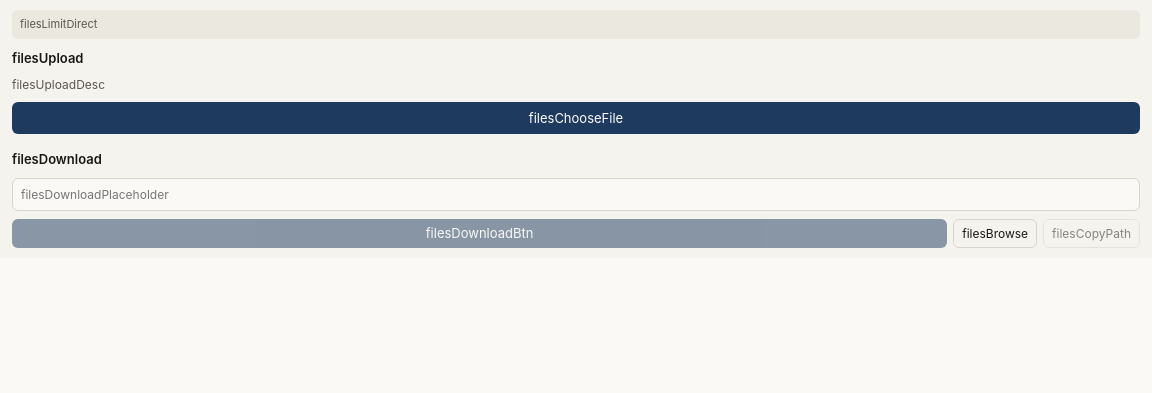
Test: FilesPanel 下载 › FilesPanel_BrowserPickFileFillsPath_1
Click the button "filesBrowse": (995, 233) [953, 218, 1037, 248]
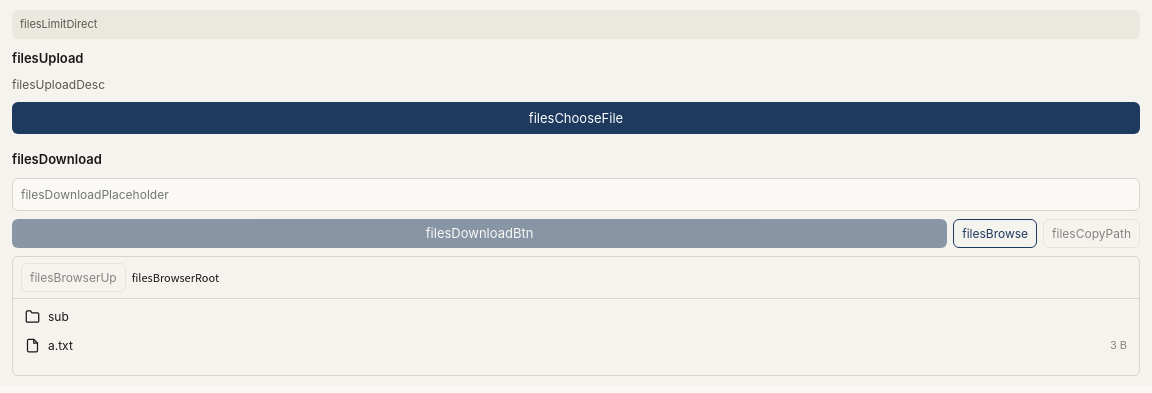
点选文件 → 回填**相对项目根**路径并收起（不自动下载）
Click the button with class "browser-item" showing "a.txt 3 B": (32, 345) [17, 332, 1135, 358]
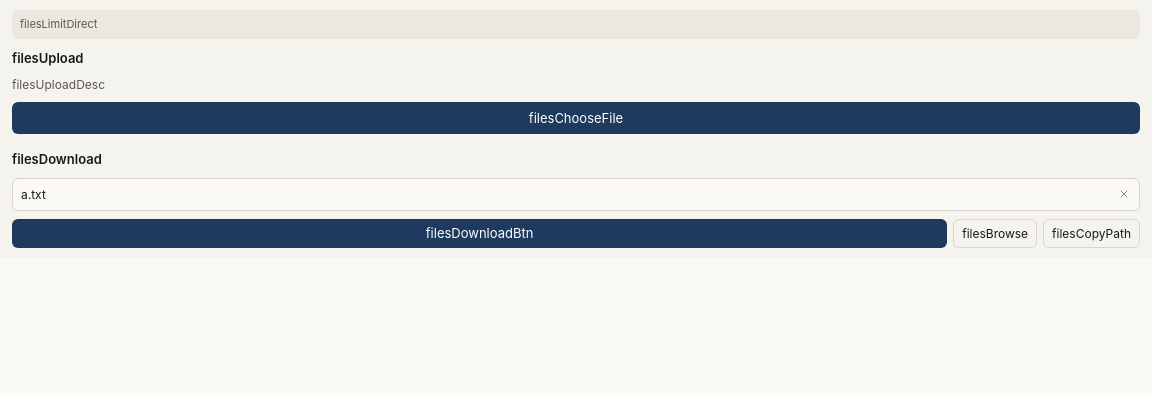
Check: the field with class "dl-input" holds "a.txt", box [12, 178, 1140, 210]
